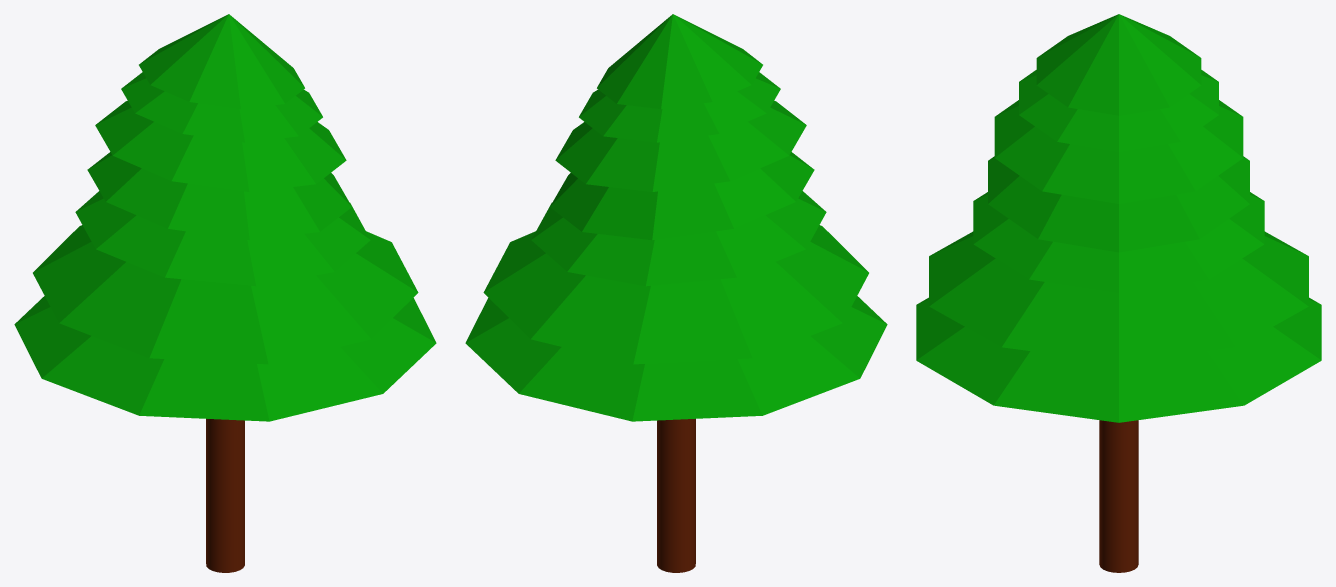
The model's file is tree2.fbx.
3 views of the same model, side by side, from view 1: azimuth 30°, elevation 25°; view 2: azimuth 150°, elevation 25°; view 3: azimuth 270°, elevation 25° (orthographic).
Parts seen in each view (by area): view 1: flower1, flower, flower2, flower3, flower4, flower6, flower5, wood; view 2: flower1, flower, flower2, flower3, flower4, flower6, flower5, wood; view 3: flower1, flower, flower4, flower2, flower3, flower6, flower5, wood.
Part boxes in pixels (<box>): flower1: <box>33,225,418,364</box>; flower: <box>14,296,436,421</box>; flower2: <box>75,191,370,286</box>; flower3: <box>87,152,351,240</box>; flower4: <box>95,100,346,191</box>; flower6: <box>139,14,304,109</box>; flower5: <box>121,72,322,142</box>; wood: <box>206,419,244,572</box>; flower1: <box>483,225,868,364</box>; flower: <box>465,296,887,421</box>; flower2: <box>531,191,826,286</box>; flower3: <box>550,152,814,240</box>; flower4: <box>555,100,806,191</box>; flower6: <box>597,14,762,109</box>; flower5: <box>579,72,780,142</box>; wood: <box>657,419,695,572</box>; flower1: <box>929,231,1308,362</box>; flower: <box>916,297,1321,422</box>; flower4: <box>994,100,1243,203</box>; flower2: <box>973,192,1264,292</box>; flower3: <box>988,156,1249,252</box>; flower6: <box>1036,14,1201,115</box>; flower5: <box>1019,70,1218,151</box>; wood: <box>1099,420,1138,572</box>.
Bounding box in the file's own units: 1.57 × 2.24 × 1.49.
